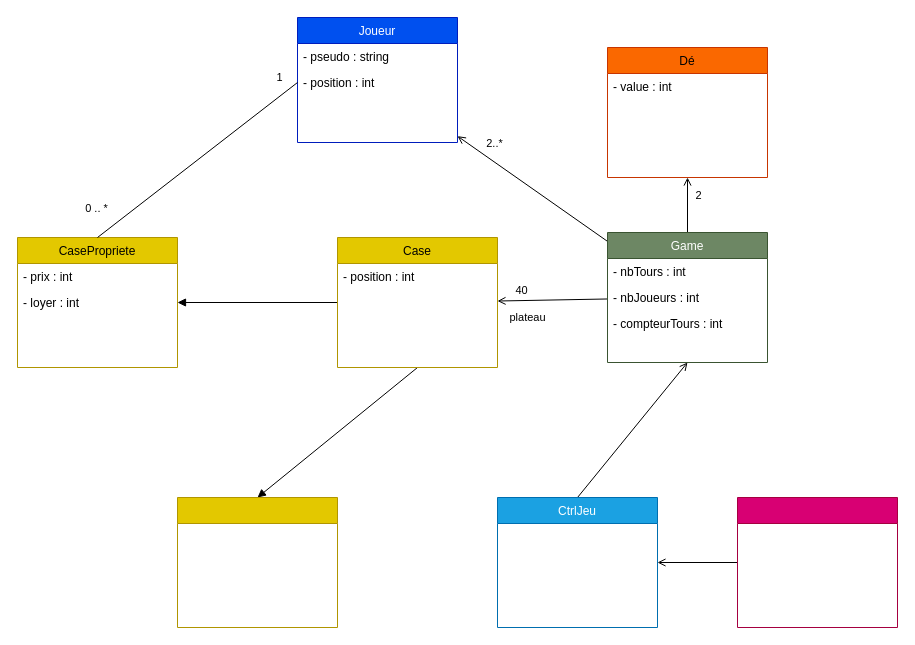
The diagram is 915 pixels wide and 645 high, and some of its shapes have lost their labels. Here are the shapes that lost their labels. From the top down, the centre of each, then its label:
(x=257, y=562): CaseSpeciale
(x=817, y=562): IHM
